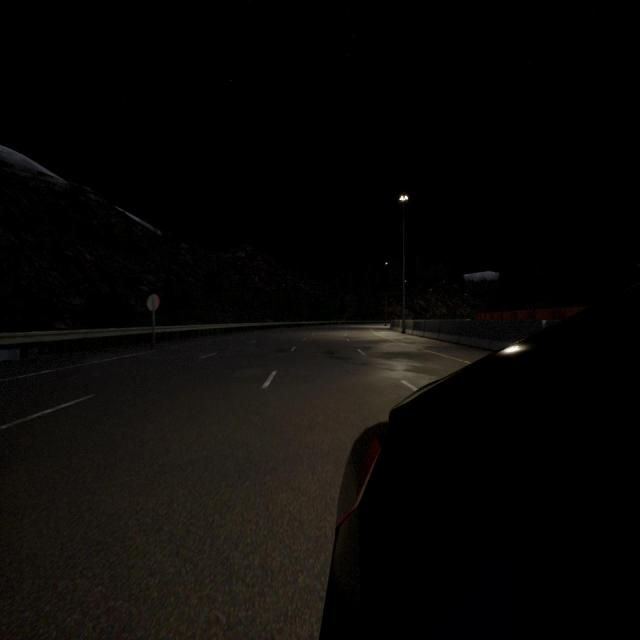Traffic_Signs: (147, 294, 160, 311)
Vehicle: (320, 285, 640, 637)
